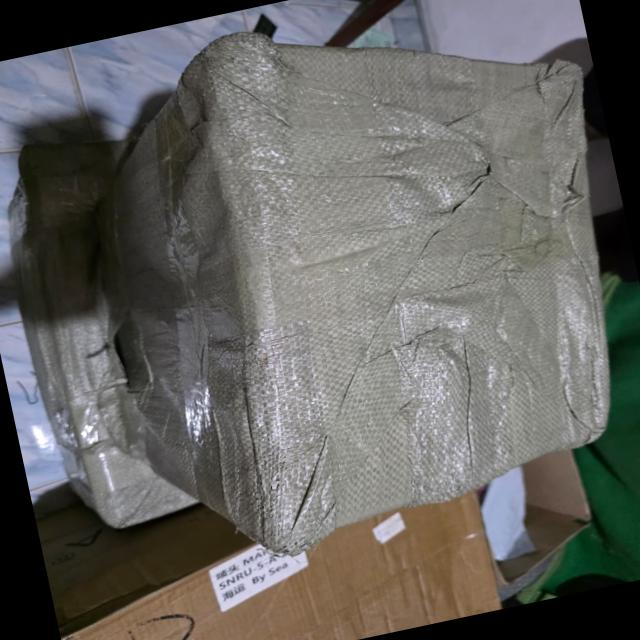carton_box: (37, 430, 535, 640)
export_mark_label: (189, 513, 318, 616)
